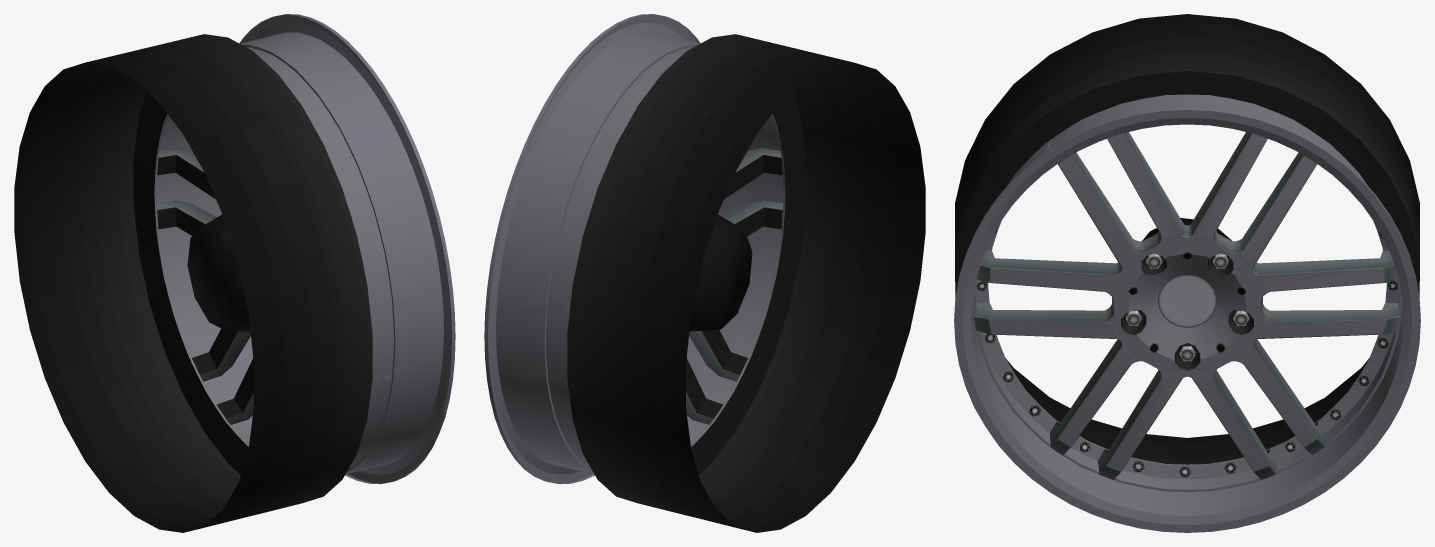
The model's file is wheel66.fbx.
3 views of the same model, side by side, from view 1: azimuth 30°, elevation 25°; view 2: azimuth 150°, elevation 25°; view 3: azimuth 270°, elevation 25° (orthographic). The views are drawn at different scales.
Parts seen in each view (by area): view 1: tsw_catalunya_wheel_wheel_inner_rim_, wheel_rim, tsw_catalunya_wheel_wheel_rim_; view 2: tsw_catalunya_wheel_wheel_inner_rim_, wheel_rim, tsw_catalunya_wheel_wheel_rim_; view 3: tsw_catalunya_wheel_wheel_rim_, wheel_rim, tsw_catalunya_wheel_wheel_inner_rim_.
Part boxes in pixels (x1,y1,x2,y2): tsw_catalunya_wheel_wheel_inner_rim_: (14,34,372,532); wheel_rim: (156,14,455,484); tsw_catalunya_wheel_wheel_rim_: (154,33,443,483); tsw_catalunya_wheel_wheel_inner_rim_: (567,34,925,532); wheel_rim: (484,14,783,484); tsw_catalunya_wheel_wheel_rim_: (496,33,785,473); tsw_catalunya_wheel_wheel_rim_: (972,95,1401,515); wheel_rim: (954,94,1420,532); tsw_catalunya_wheel_wheel_inner_rim_: (955,14,1419,464).
Size of the model in its own units: 0.2208 by 0.4571 by 0.4561.
1 material, 1 textured.
